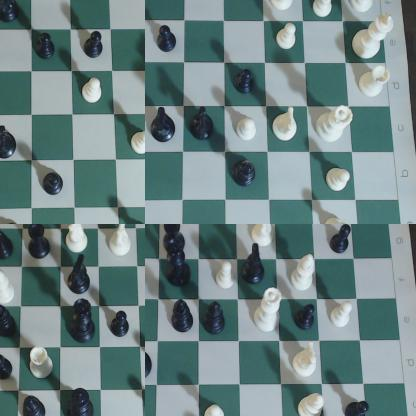black-bishop: (232, 154, 259, 188), (172, 299, 194, 336), (18, 390, 49, 416), (205, 303, 228, 338), (1, 305, 22, 339)
black-king: (68, 387, 99, 416), (146, 335, 154, 382)
black-knight: (150, 105, 179, 144), (70, 254, 94, 299), (244, 244, 266, 288), (1, 125, 19, 162), (1, 225, 18, 264), (1, 1, 22, 26)
black-pawn: (329, 225, 360, 258), (191, 108, 218, 144), (107, 310, 135, 344), (292, 300, 320, 333), (155, 23, 180, 55), (237, 64, 258, 102), (81, 26, 105, 58), (343, 392, 373, 416), (35, 28, 56, 62), (41, 169, 62, 194), (1, 351, 16, 382)
black-queen: (70, 297, 100, 346), (167, 242, 193, 290)
black-rook: (24, 225, 54, 264), (161, 225, 191, 254)
white-bishop: (292, 256, 317, 292), (1, 267, 21, 310), (296, 392, 329, 416), (348, 1, 384, 13)
white-king: (350, 14, 396, 62)
white-knight: (291, 344, 323, 379), (274, 107, 301, 143), (109, 225, 136, 261), (63, 225, 92, 257), (249, 225, 280, 250), (269, 1, 296, 13)
white-pawn: (328, 297, 354, 333), (275, 20, 299, 55), (236, 114, 257, 150), (324, 167, 356, 190), (82, 77, 105, 108), (215, 260, 236, 293), (312, 1, 339, 19), (203, 402, 231, 416), (132, 128, 145, 158), (325, 216, 355, 224)
white-queen: (315, 105, 356, 144), (254, 288, 285, 332)
white-rook: (28, 342, 61, 385), (358, 66, 395, 101)
